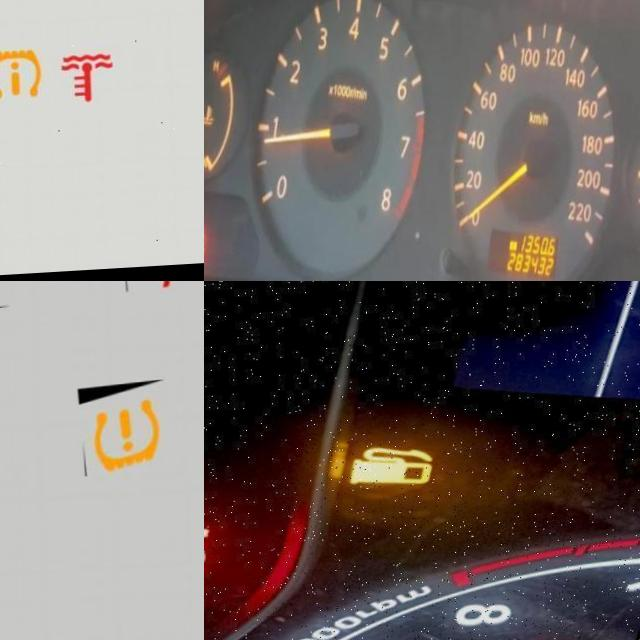Electronic Power Steering: (204, 492, 254, 612)
